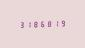eight: (31, 20, 37, 28), (45, 19, 51, 27)
nine: (59, 19, 65, 27)
one: (24, 20, 30, 28), (52, 19, 58, 27)
six: (38, 20, 44, 27)
three: (17, 20, 23, 28)
